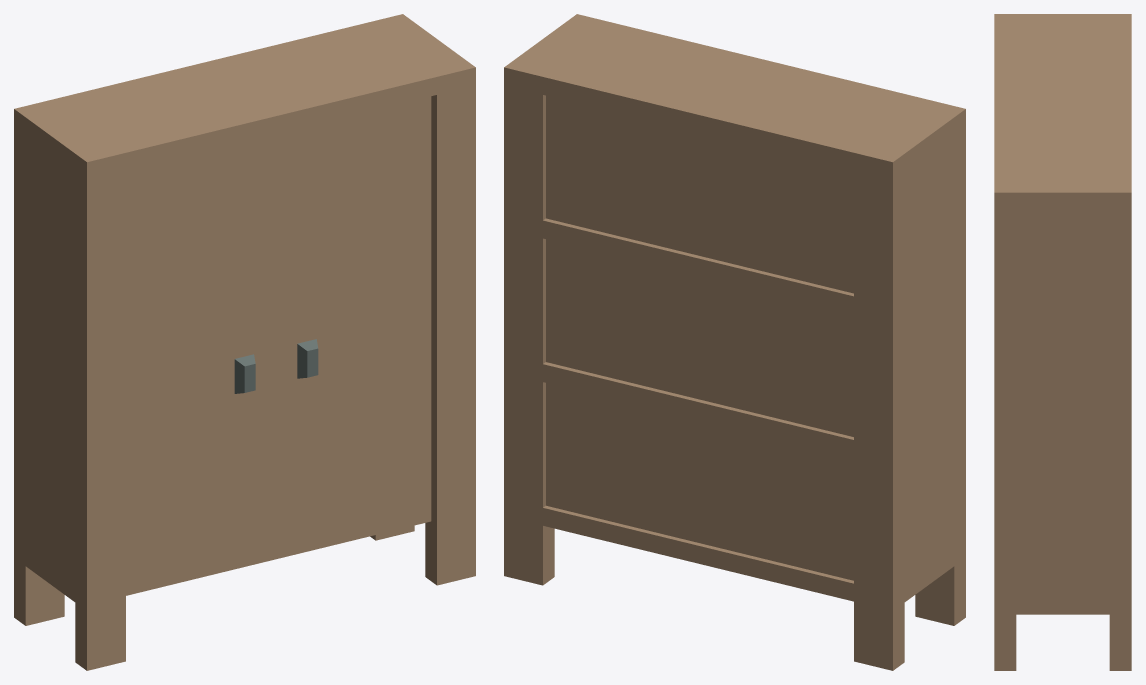
The model's file is wardrobe.glb.
3 views of the same model, side by side, from view 1: azimuth 30°, elevation 25°; view 2: azimuth 150°, elevation 25°; view 3: azimuth 270°, elevation 25° (orthographic). The views are drawn at different scales.
Visible parts, largest first — view 1: bookcaseClosedDoors(Clone), doorRight, doorLeft; view 2: bookcaseClosedDoors(Clone); view 3: bookcaseClosedDoors(Clone).
Part boxes in pixels (box(x1,y1,x2,y2)): bookcaseClosedDoors(Clone): box(14, 14, 475, 670); doorRight: box(275, 96, 431, 550); doorLeft: box(126, 134, 275, 586); bookcaseClosedDoors(Clone): box(504, 14, 965, 670); bookcaseClosedDoors(Clone): box(994, 14, 1131, 670).
Bounding box in the file's own units: 1.6 × 2 × 0.52.
